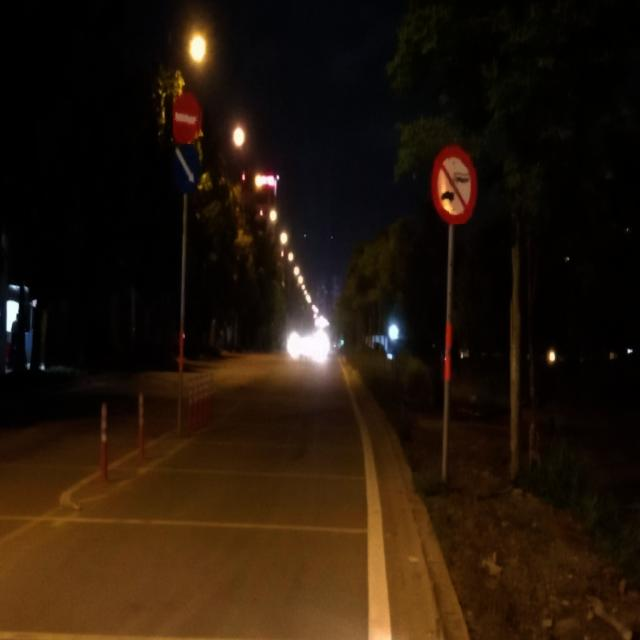cam_o_to_tai_va_xe_khach: (429, 141, 479, 224)
cam_xe_di_nguoc_chieu: (173, 92, 202, 144)
huong_phai_di_vuot_chuong_ngai_vat_phai: (171, 145, 201, 194)
